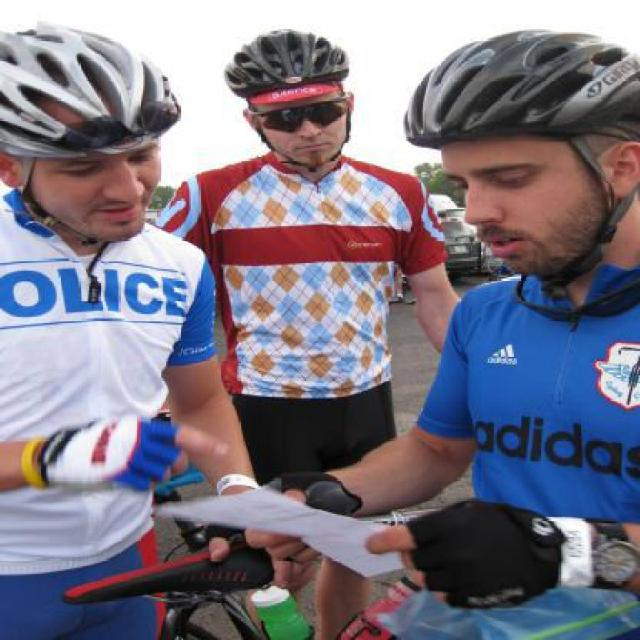Person: (247, 29, 638, 638), (152, 24, 468, 638), (0, 19, 305, 638)
